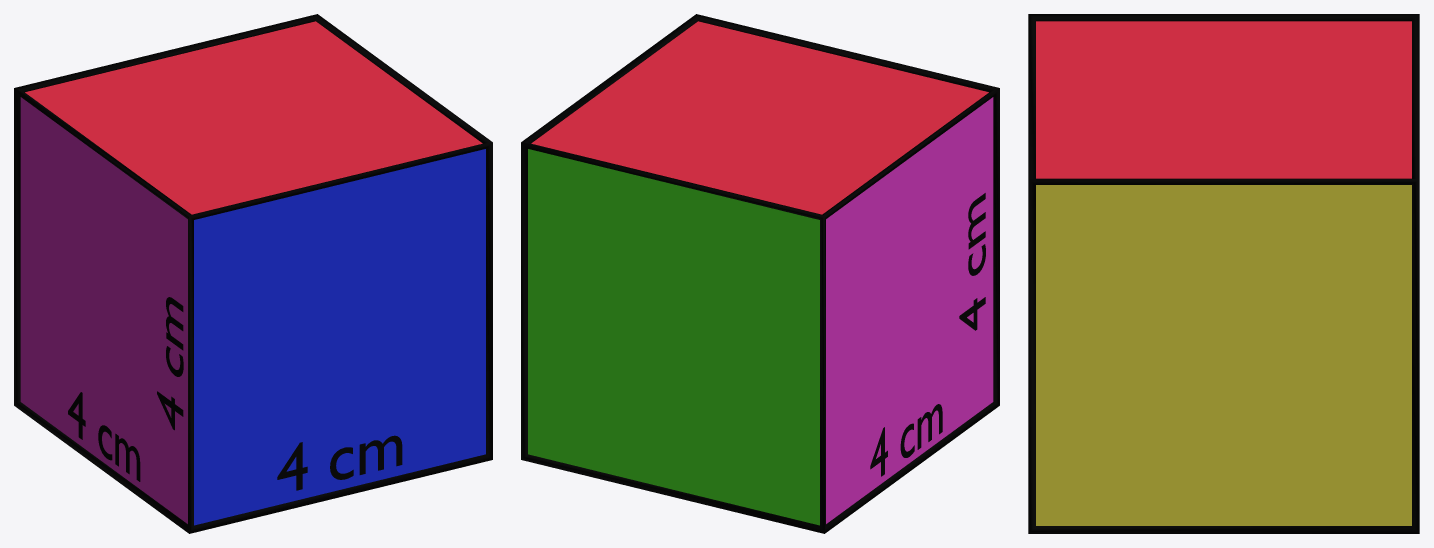
Rendered from cubo1.glb.
3 renders of one model, left to right at view 1: azimuth 30°, elevation 25°; view 2: azimuth 150°, elevation 25°; view 3: azimuth 270°, elevation 25°, orthographic. The views are drawn at different scales.
Parts seen in each view (by area): view 1: cubo1, Texto, Texto.002, Texto.001; view 2: cubo1, Texto.001, Texto.002; view 3: cubo1.
Part boxes in pixels (x1,y1,x2,y2): cubo1: (14, 14, 492, 533); Texto: (277, 435, 402, 490); Texto.002: (68, 392, 140, 481); Texto.001: (157, 297, 183, 430); cubo1: (521, 14, 999, 533); Texto.001: (959, 193, 985, 330); Texto.002: (870, 404, 942, 476); cubo1: (1028, 14, 1419, 533).
Size of the model in its own units: 0.0412 by 0.0412 by 0.0412.
